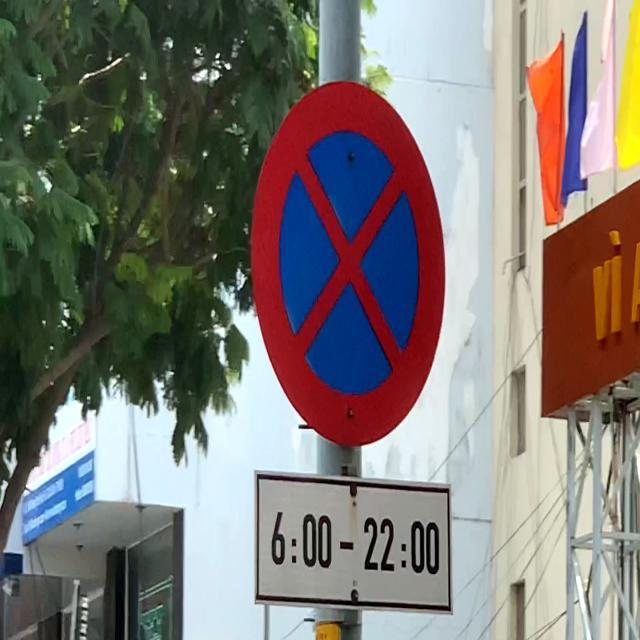P-130: (253, 80, 447, 440)
